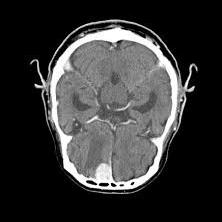Tumour-Meningioma: (86, 157, 122, 187)
